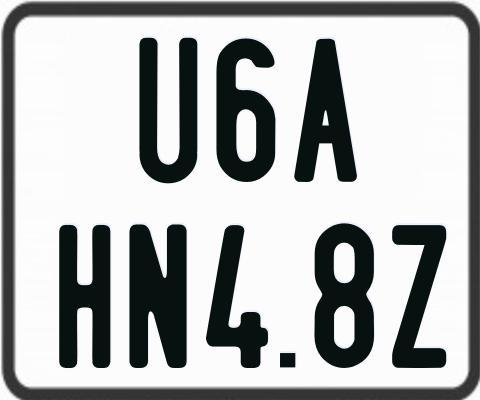4: (206, 224, 274, 371)
6: (215, 38, 274, 185)
8: (313, 221, 376, 371)
A: (291, 37, 356, 180)
H: (56, 225, 111, 374)
N: (127, 221, 191, 365)
U: (138, 35, 197, 186)
Z: (389, 223, 449, 368)
